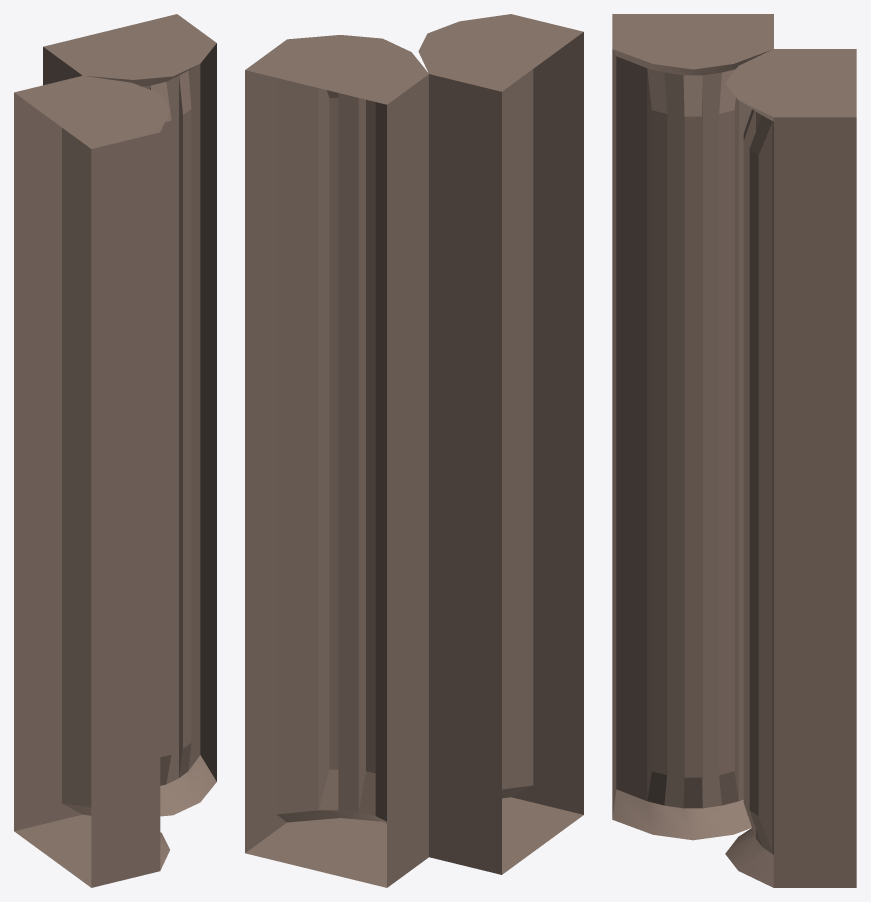
The model's file is pillar_corner_single.fbx.
3 renders of one model, left to right at view 1: azimuth 30°, elevation 25°; view 2: azimuth 150°, elevation 25°; view 3: azimuth 270°, elevation 25°, orthographic. The views are drawn at different scales.
Parts seen in each view (by area): view 1: Pillar_1_corner; view 2: Pillar_1_corner; view 3: Pillar_1_corner.
Part boxes in pixels (box(x1,y1,x2,y2)): Pillar_1_corner: box(14, 14, 216, 887); Pillar_1_corner: box(245, 14, 583, 887); Pillar_1_corner: box(612, 14, 856, 887).
Bounding box in the file's own units: 2.07 × 7.22 × 2.07.
